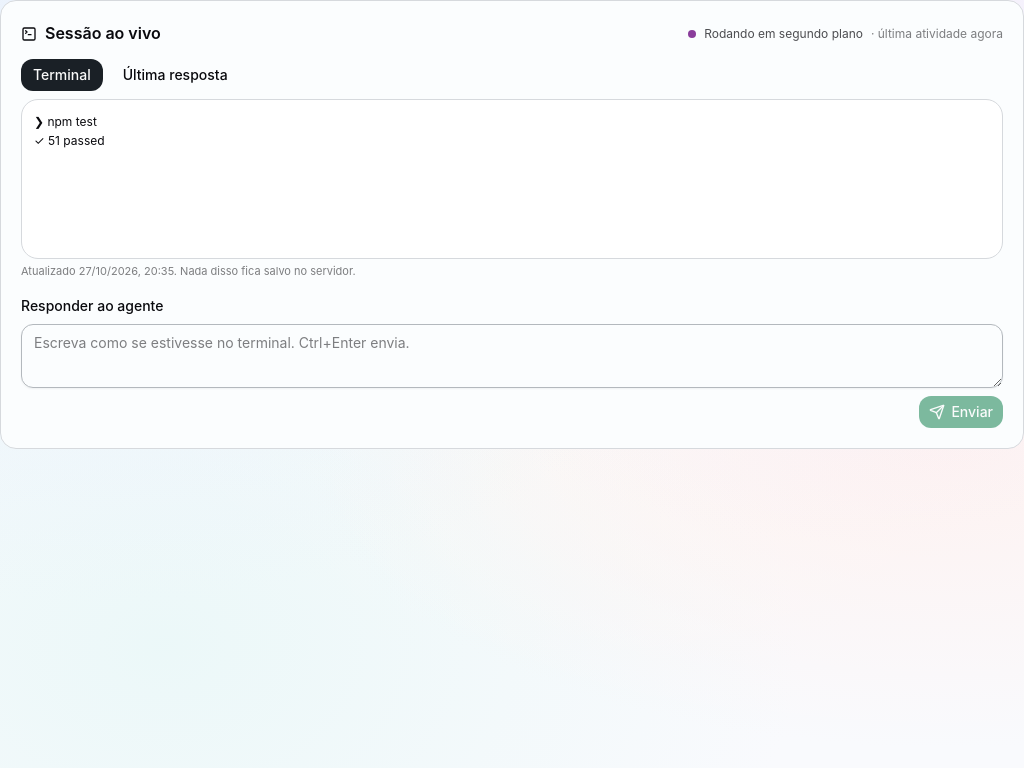
Test: live session panel › keeps the draft and explains an uncertain delivery
Type "pode seguir" into the text box labelled "Responder ao agente" at [512, 356], box [21,324,1003,388]
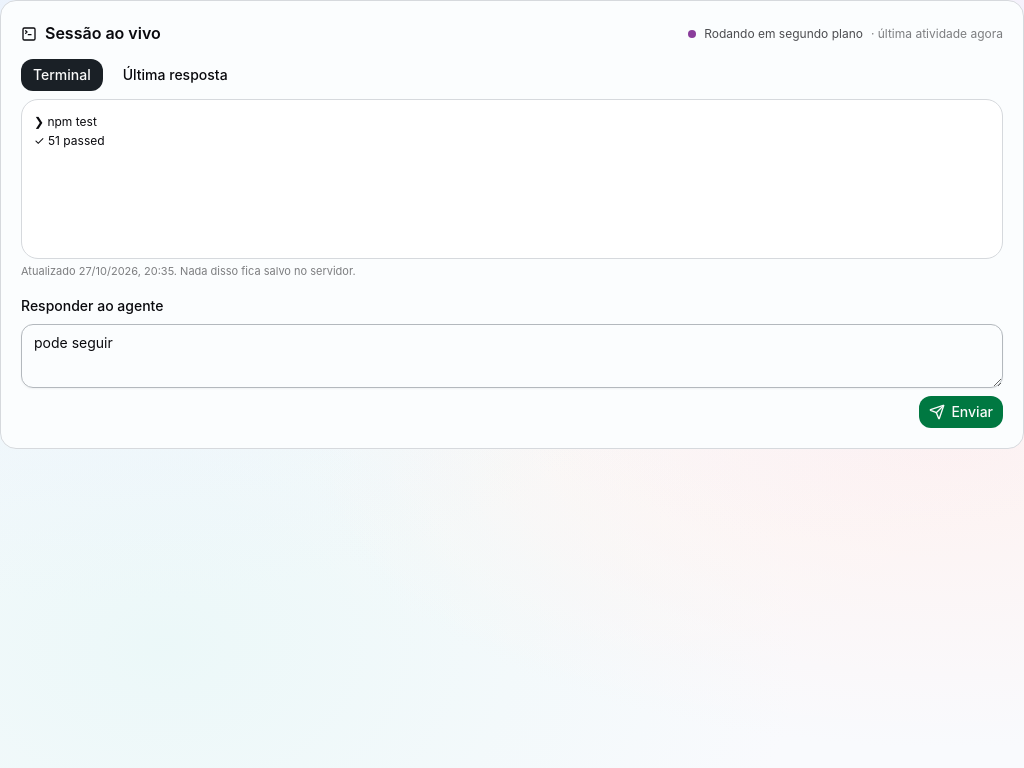
Click the button "Enviar" at [961, 412], box [919,396,1003,428]
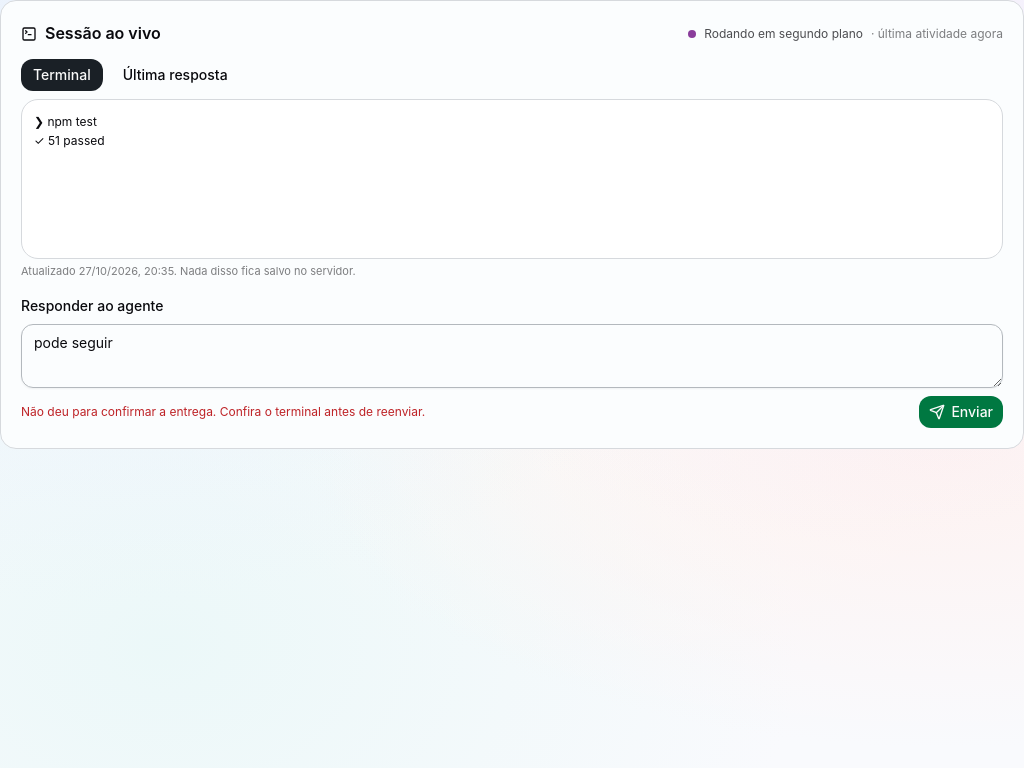
Result: the text "Não deu para confirmar a entrega. Confira o terminal antes de reenviar." is shown at [21,404,425,420]
